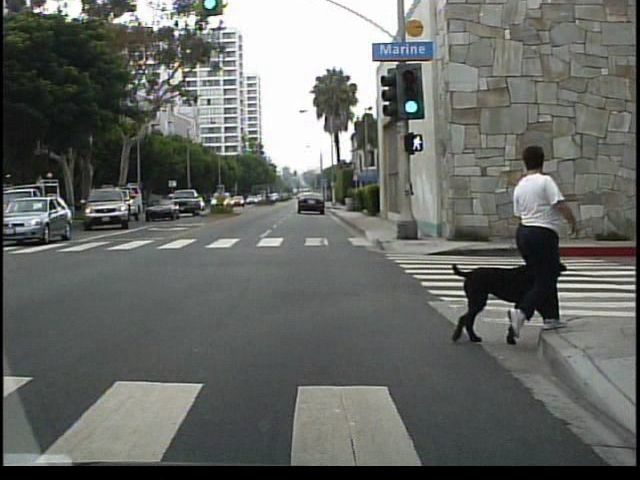person: (499, 143, 574, 342)
